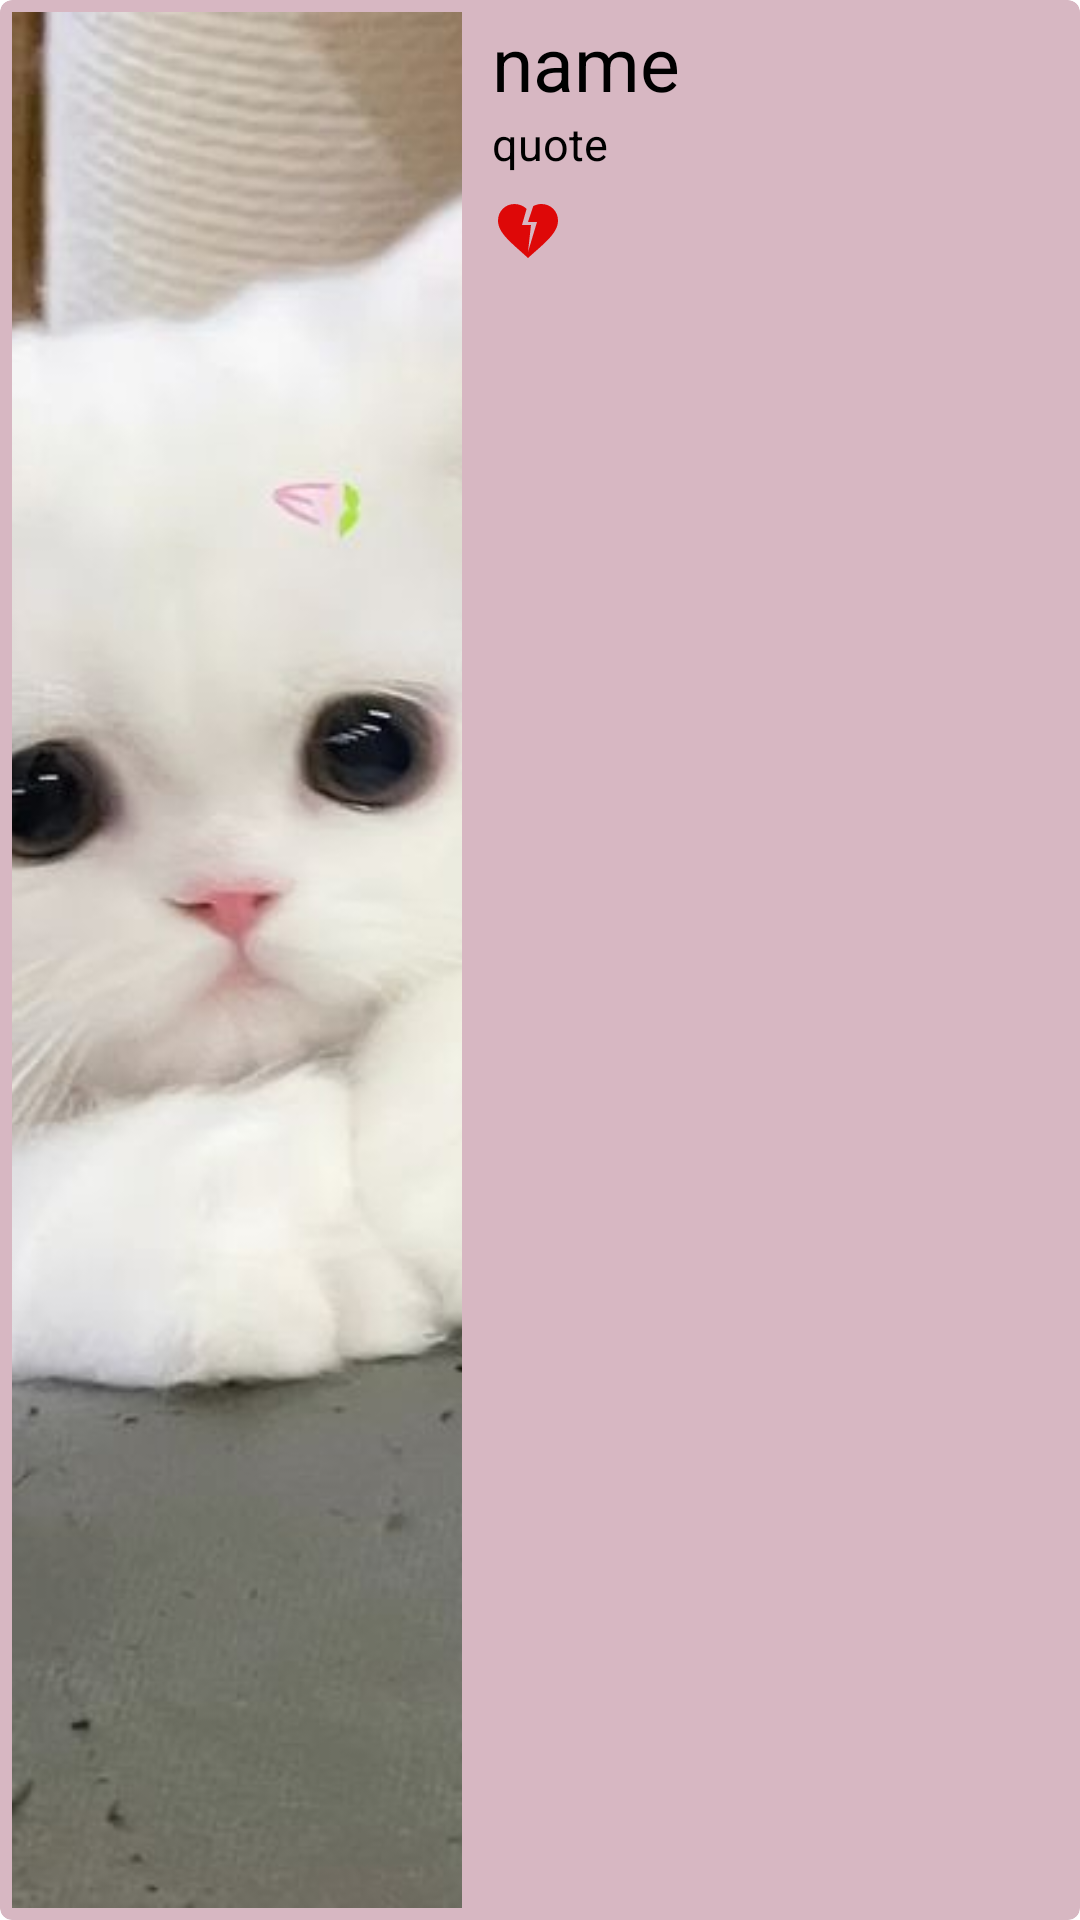

Icons on this 1080w x 1920h Android screen, each with the point to tap as (x,y):
heart broken: (528,231)
